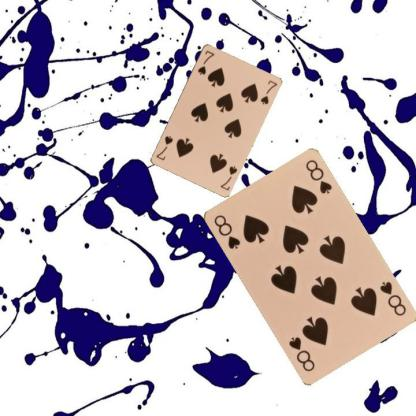7s: (194, 48, 216, 76), (218, 163, 238, 191)
8s: (376, 279, 407, 317), (211, 212, 241, 251)
